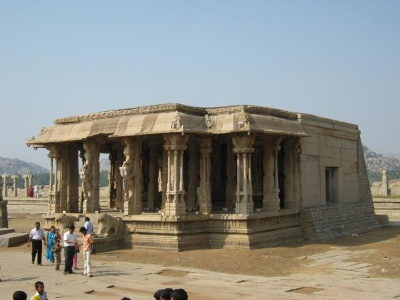mandapa: (27, 107, 306, 228)
